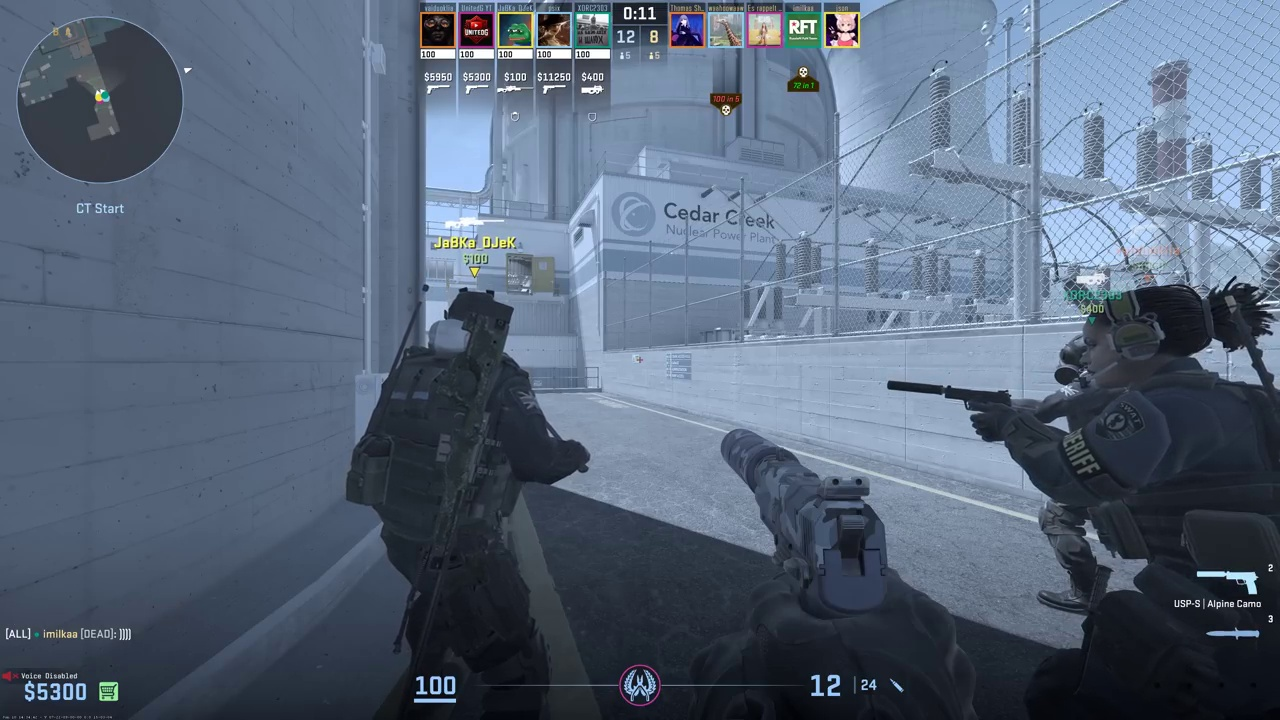CT: (1031, 290, 1280, 720), (373, 292, 555, 720)
